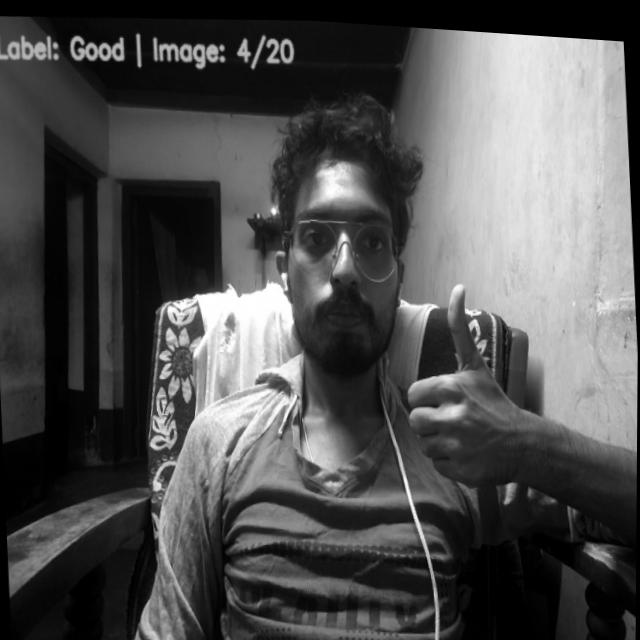Good: (395, 268, 527, 493)
